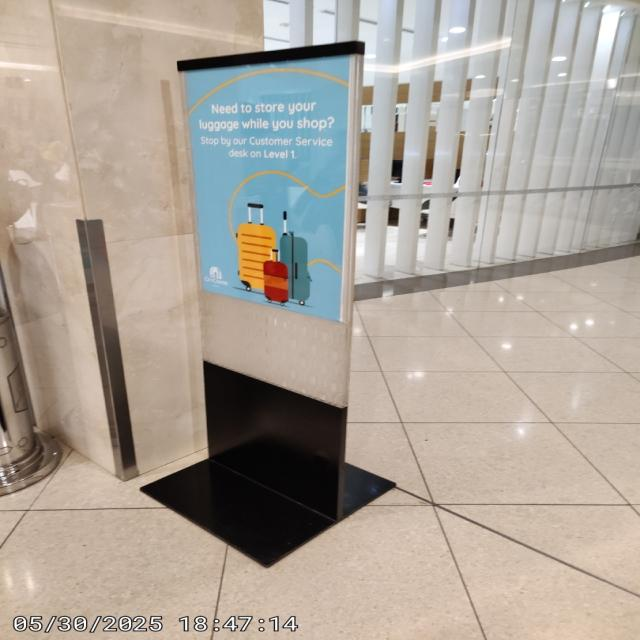poster: (179, 45, 353, 512)
